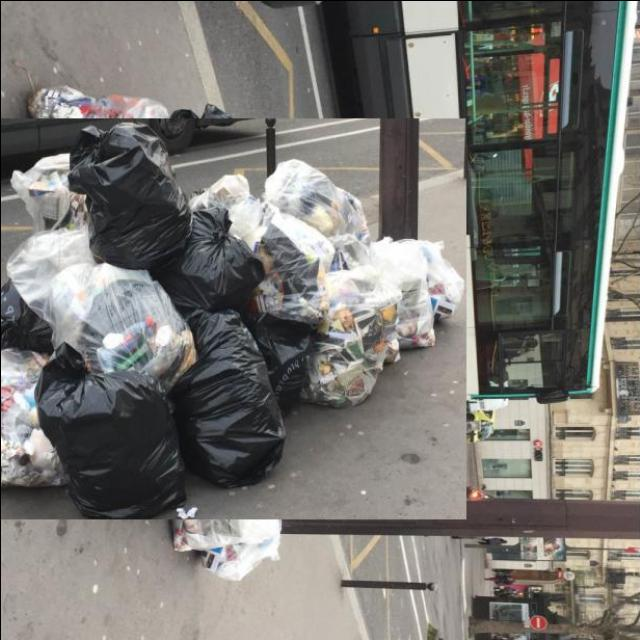plastik: (37, 352, 184, 517), (168, 308, 284, 486), (45, 263, 194, 389), (67, 121, 190, 269), (221, 176, 333, 325), (302, 265, 398, 405), (150, 208, 263, 314), (263, 158, 368, 269), (0, 350, 64, 487), (6, 229, 93, 319), (371, 237, 435, 348), (250, 312, 314, 412), (11, 152, 72, 230)
